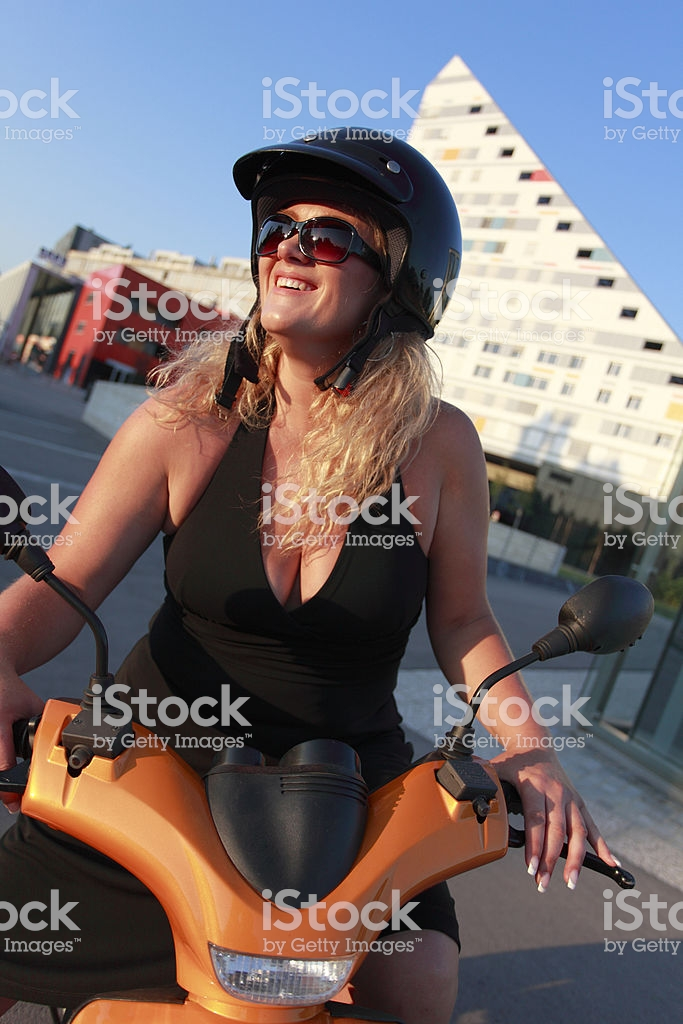helmet: (225, 93, 470, 303)
